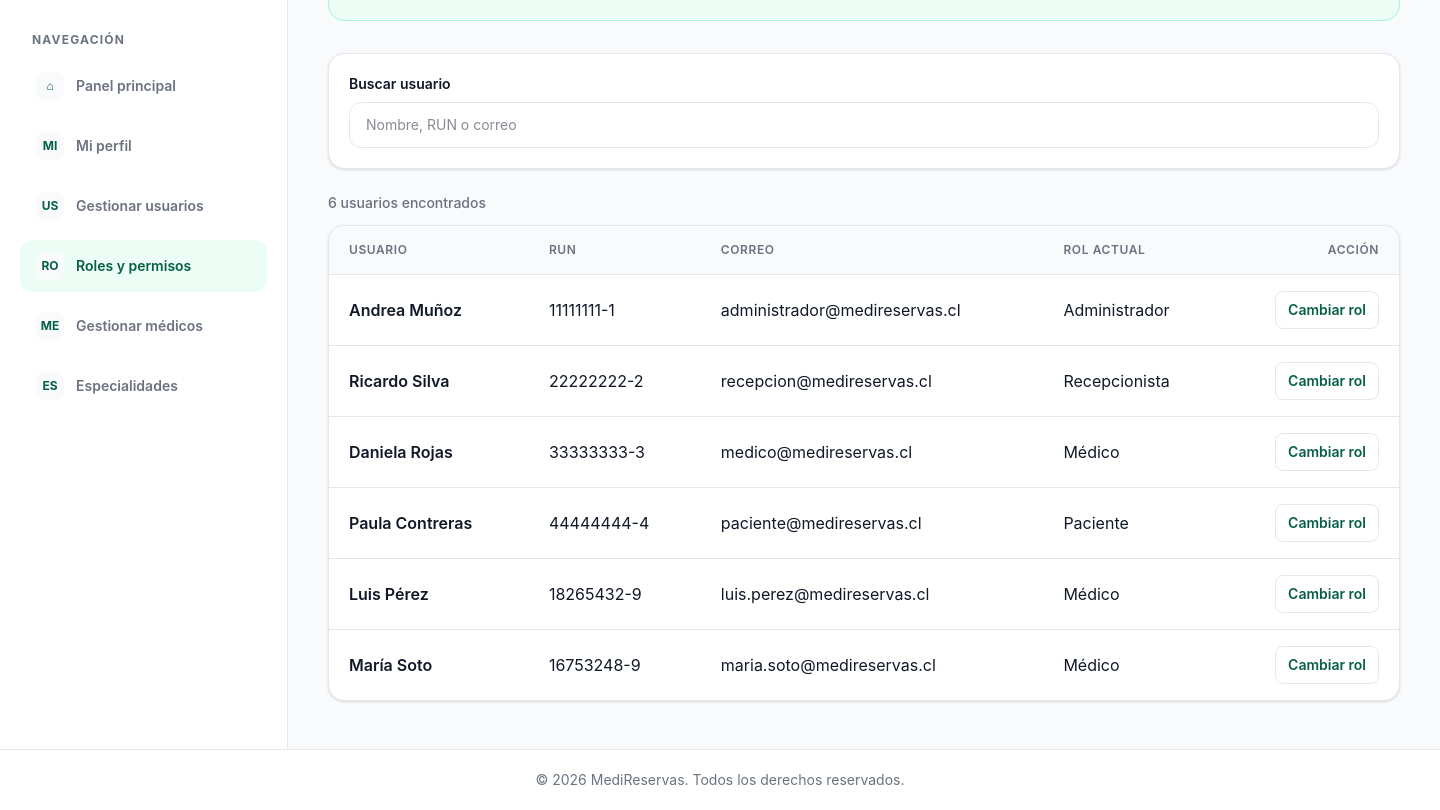
Test: Requisitos de administración › CP-086 · RF-08 · asigna un rol disponible y refleja el cambio en la tabla
This screenshot has width=1440, height=810.
(page scrolled)
Click the button "Cambiar rol" in the row of "Paula".
click(1327, 523)  # box left=1275, top=504, right=1379, bottom=542
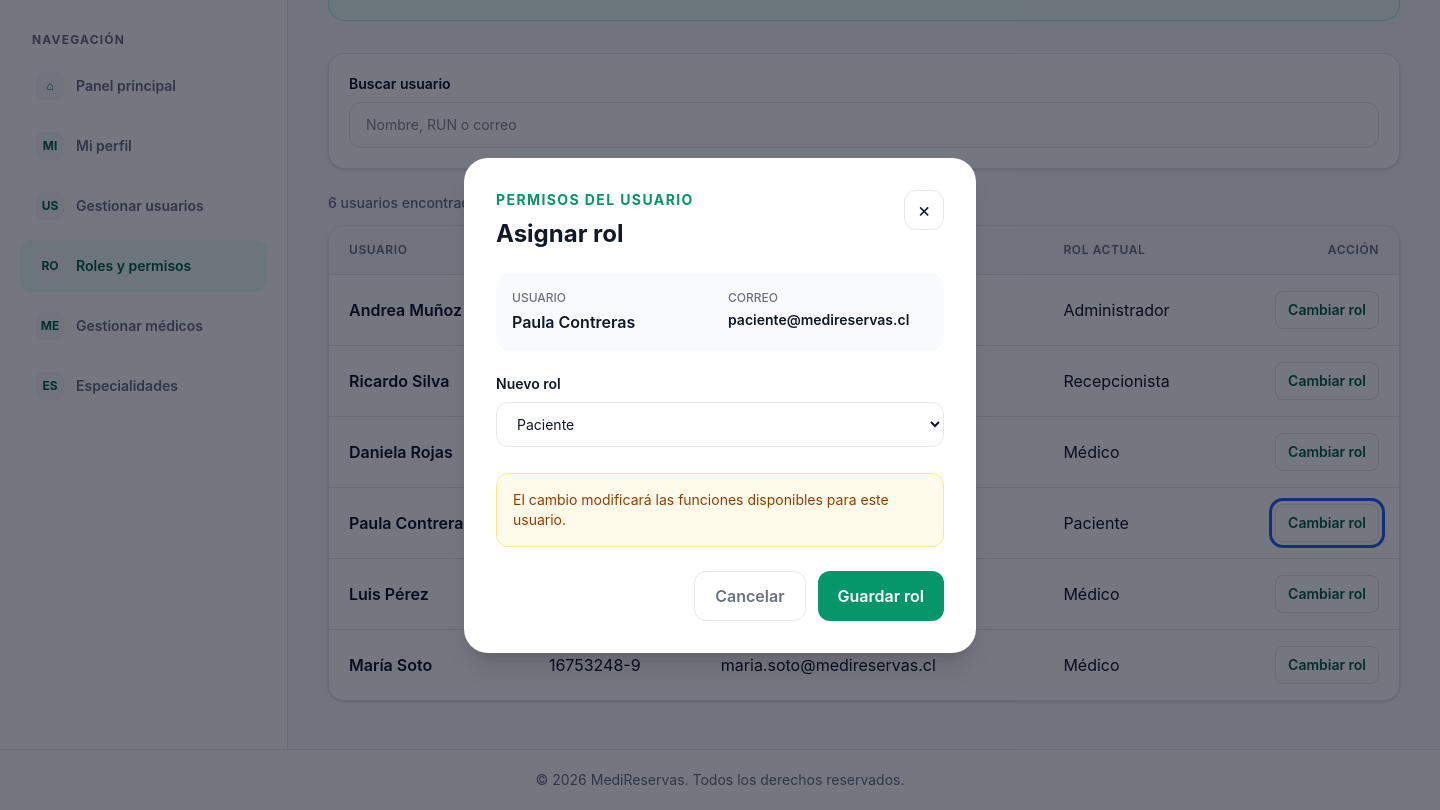
Select "Recepcionista" in the dropdown labelled "Nuevo rol" at (720, 424), box left=496, top=402, right=944, bottom=446
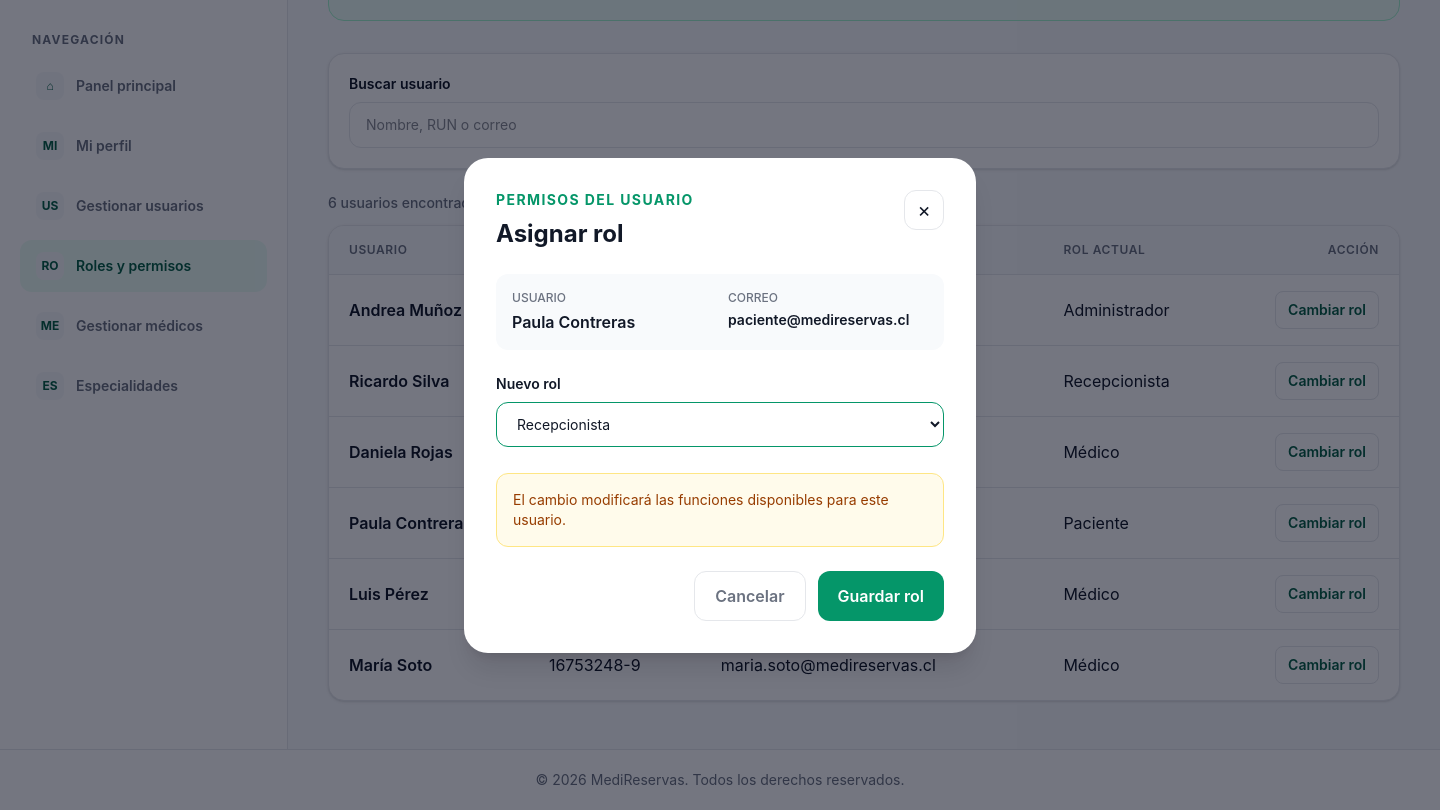
Click the button "Guardar rol".
click(881, 596)  # box left=818, top=570, right=944, bottom=620
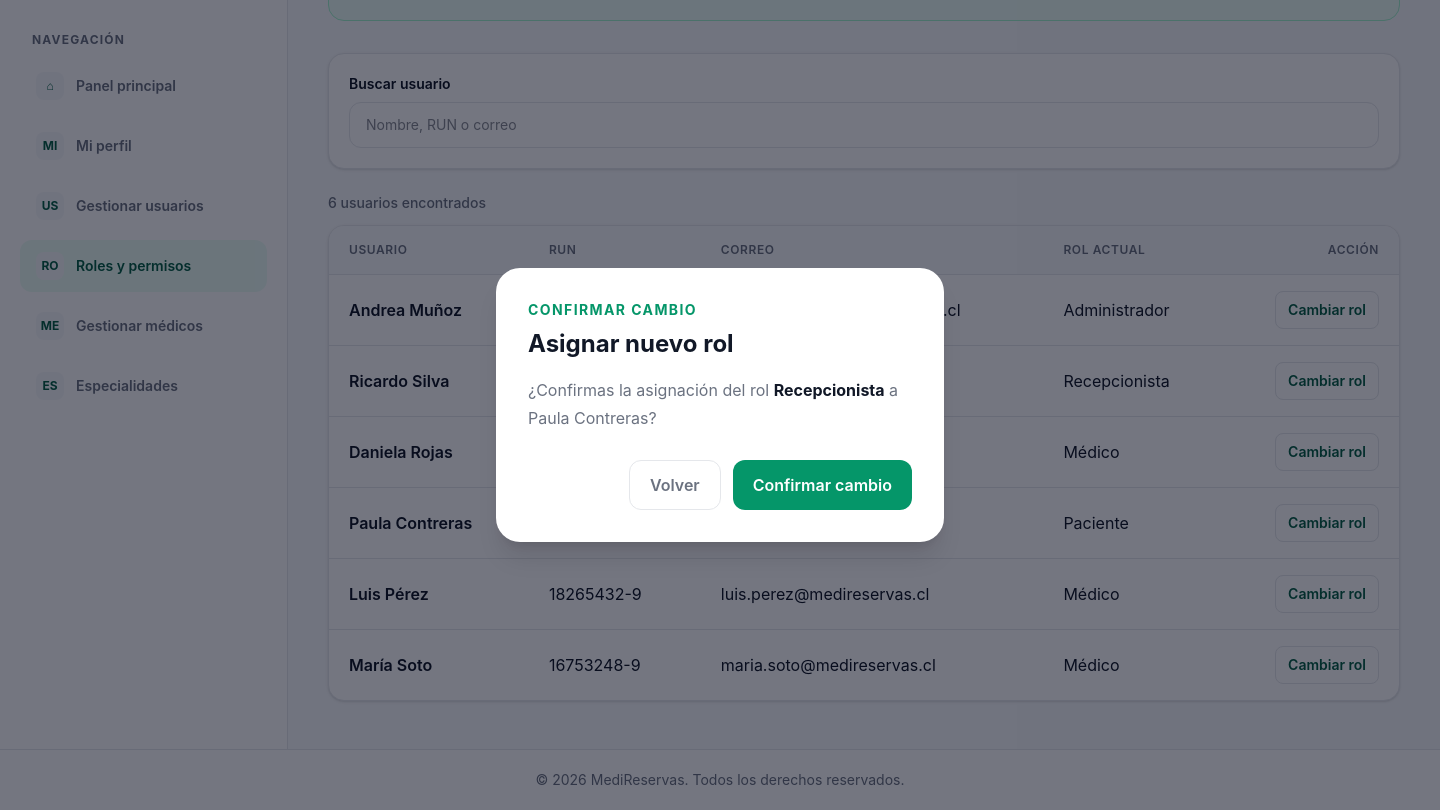
Click the button "Confirmar cambio".
click(822, 485)  # box left=733, top=460, right=912, bottom=510
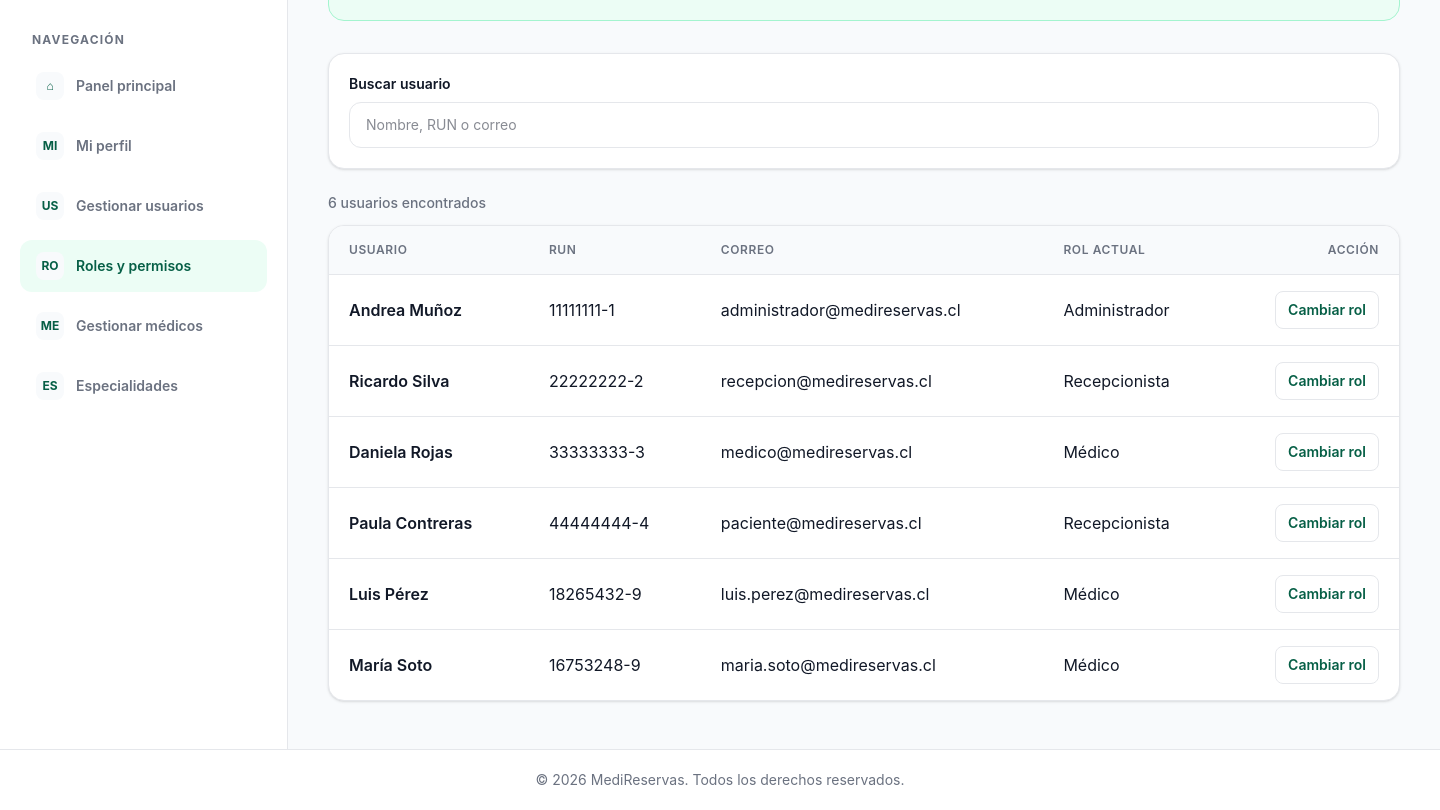
Now the row that starts with "Paula" is shown, box left=329, top=488, right=1399, bottom=558
